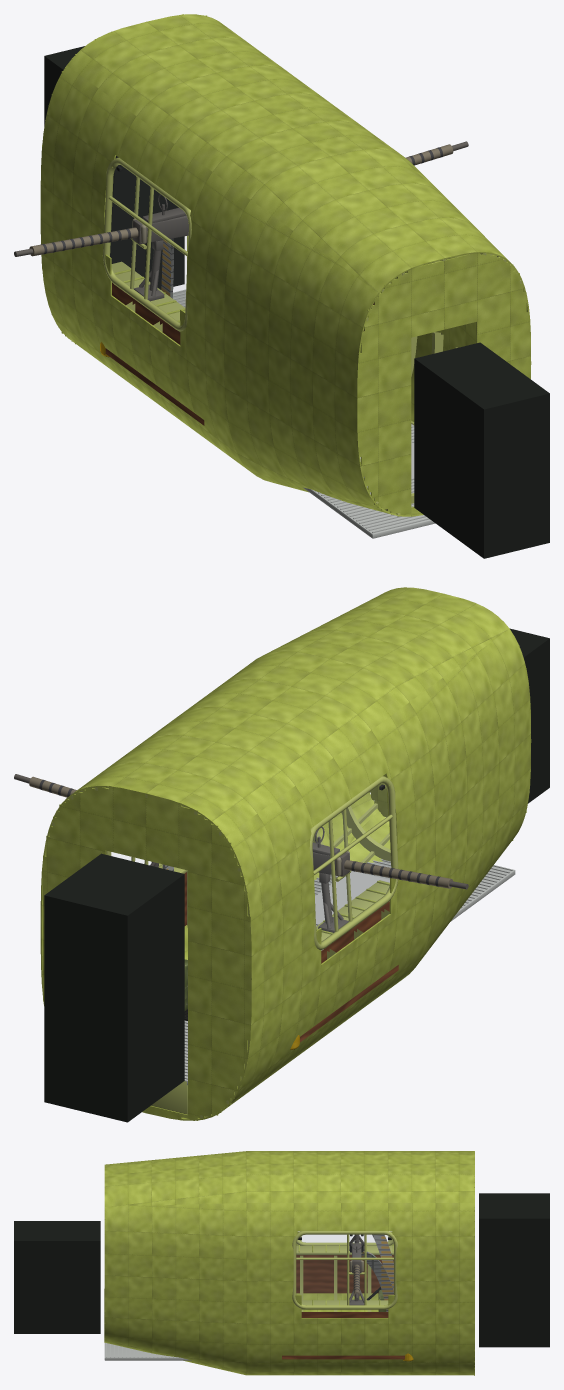
File: b24-waist.glb
3 renders of one model, top to bottom at view 1: azimuth 30°, elevation 25°; view 2: azimuth 150°, elevation 25°; view 3: azimuth 270°, elevation 25°, orthographic. The views are drawn at different scales.
Parts seen in each view (by area): view 1: zinc_chromate, bay_dark, zinc_frame, floor_corrugated, parkerized, plywood, barrel_jacket; view 2: zinc_chromate, bay_dark, zinc_frame, parkerized, plywood, floor_corrugated, barrel_jacket, aluminium; view 3: zinc_chromate, bay_dark, zinc_frame, plywood, ammo_belt, floor_corrugated, parkerized, plexiglas.
Part boxes in pixels (x1,y1,x2,y2): zinc_chromate: [40, 14, 531, 516]; bay_dark: [44, 46, 549, 558]; zinc_frame: [102, 157, 521, 514]; floor_corrugated: [172, 289, 435, 538]; parkerized: [14, 141, 468, 301]; plywood: [105, 283, 374, 425]; barrel_jacket: [29, 144, 453, 256]; zinc_chromate: [40, 587, 531, 1120]; bay_dark: [44, 628, 549, 1122]; zinc_frame: [52, 776, 398, 1118]; parkerized: [14, 774, 468, 932]; plywood: [184, 872, 398, 1042]; floor_corrugated: [184, 859, 515, 1084]; barrel_jacket: [29, 776, 452, 888]; aluminium: [315, 871, 389, 924]; zinc_chromate: [104, 1151, 474, 1375]; bay_dark: [14, 1193, 549, 1347]; zinc_frame: [104, 1231, 397, 1314]; plywood: [282, 1255, 404, 1359]; ammo_belt: [361, 1234, 393, 1311]; floor_corrugated: [104, 1343, 191, 1360]; parkerized: [349, 1234, 364, 1305]; plexiglas: [299, 1235, 390, 1242].
Size of the model in its own units: 4.12 by 2.78 by 6.8.
Materials: 18 (7 with a texture image).
